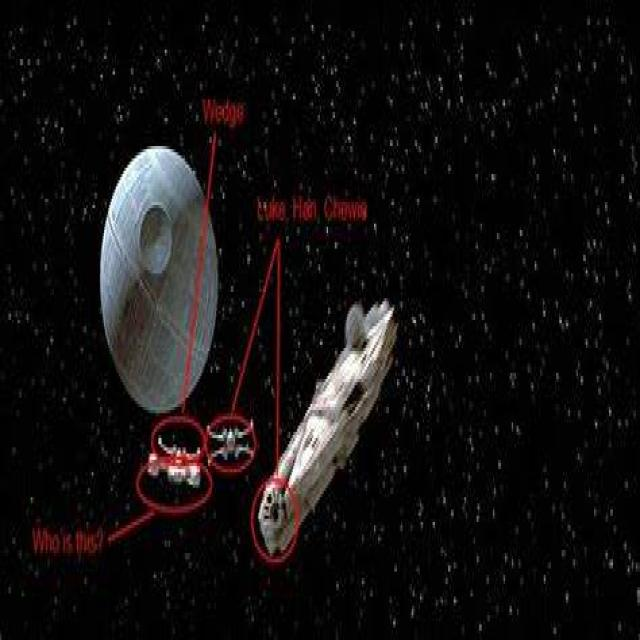deathStar: (101, 144, 218, 416)
